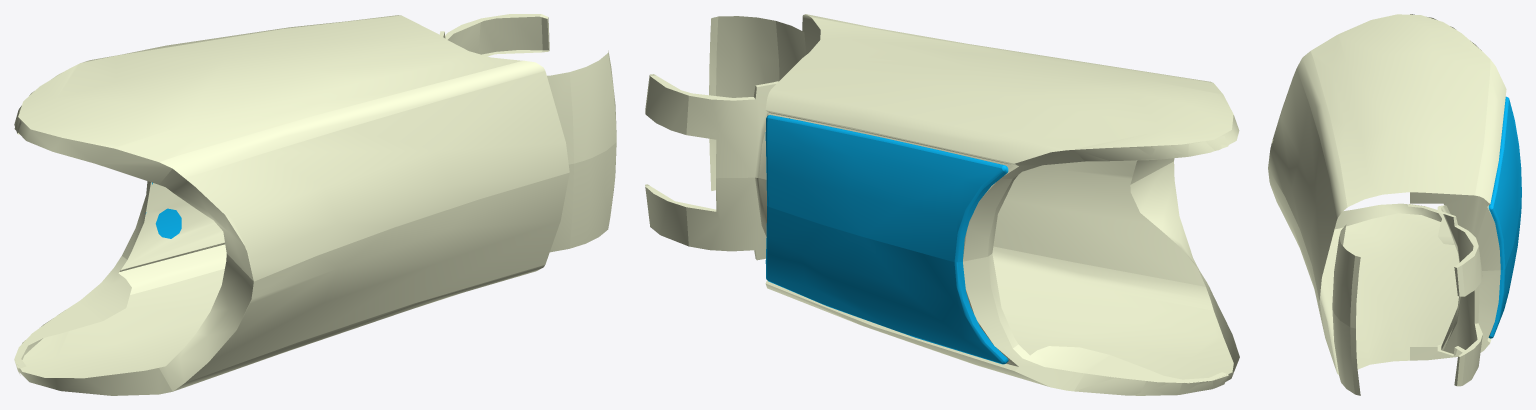
File: finger_proximal.dae
3 renders of one model, left to right at view 1: azimuth 30°, elevation 25°; view 2: azimuth 150°, elevation 25°; view 3: azimuth 270°, elevation 25°, orthographic. The views are drawn at different scales.
Visible parts, largest first — view 1: ShapeIndexedFaceS_010-Node001; view 2: ShapeIndexedFaceS_010-Node001; view 3: ShapeIndexedFaceS_010-Node001.
Part boxes in pixels (left/top/right/bottom): ShapeIndexedFaceS_010-Node001: left=14, top=14, right=616, bottom=395; ShapeIndexedFaceS_010-Node001: left=645, top=14, right=1239, bottom=395; ShapeIndexedFaceS_010-Node001: left=1268, top=14, right=1521, bottom=395.
Bounding box in the file's own units: 0.083 × 0.0411 × 0.0368.
